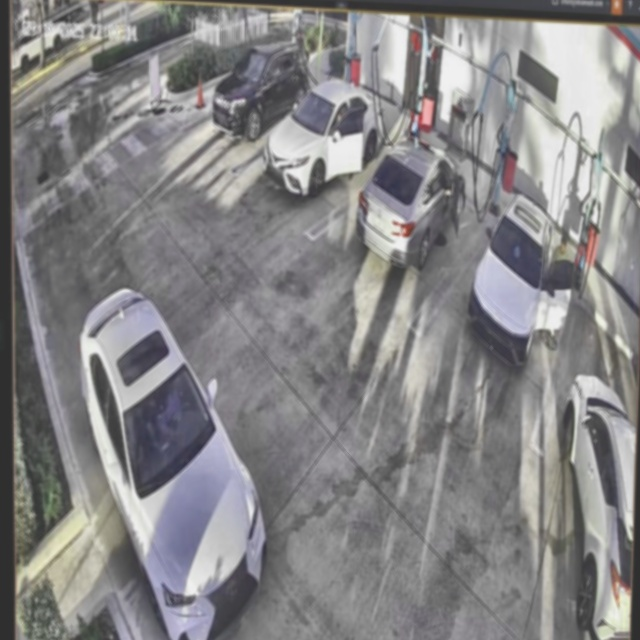Car: (81, 289, 270, 640), (468, 196, 576, 367), (352, 133, 466, 267), (268, 81, 384, 193)
